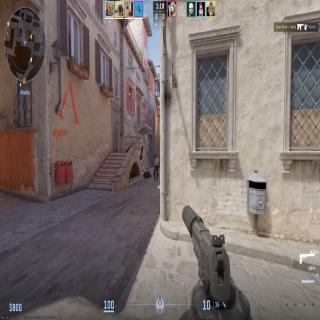T-Body: (152, 154, 160, 181)
T-Head: (154, 154, 156, 158)
